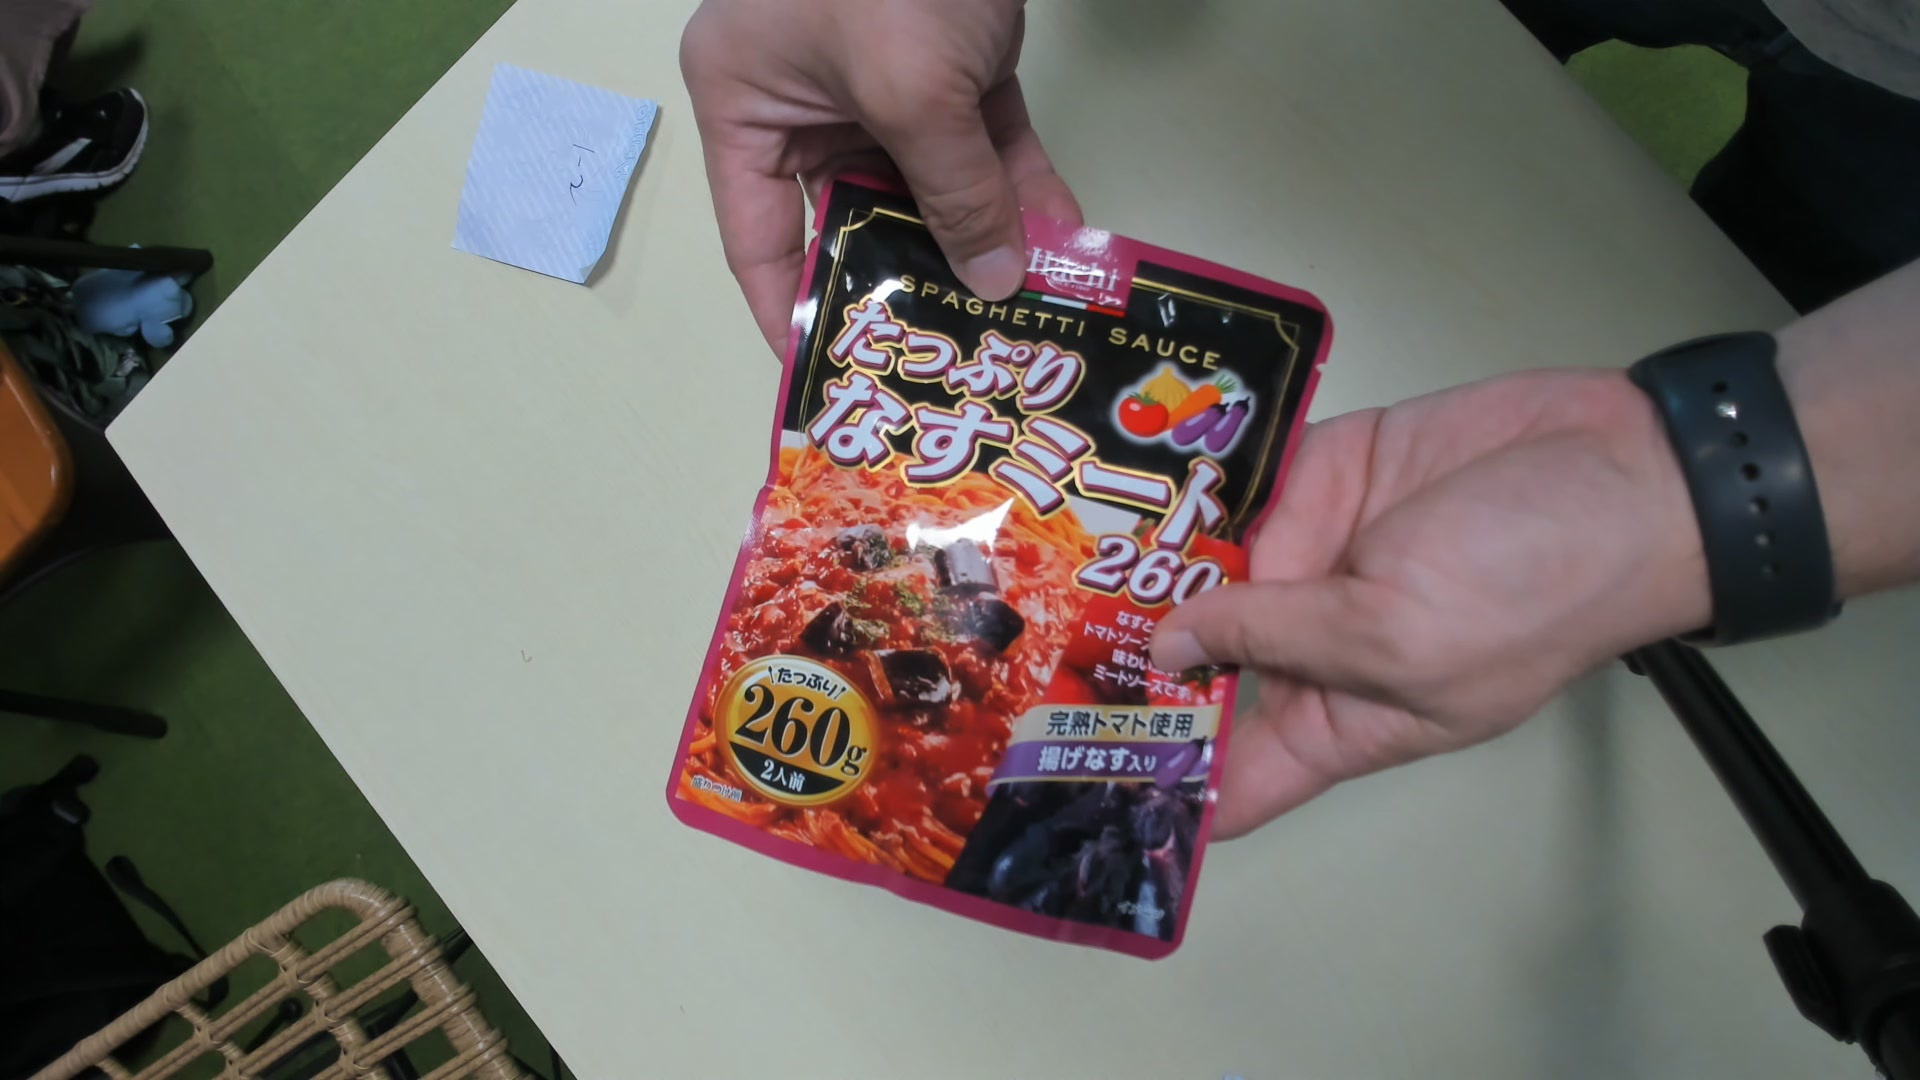PastaSauce_200-299g_NonHalal_NonHealthy: (673, 171, 1321, 949)
